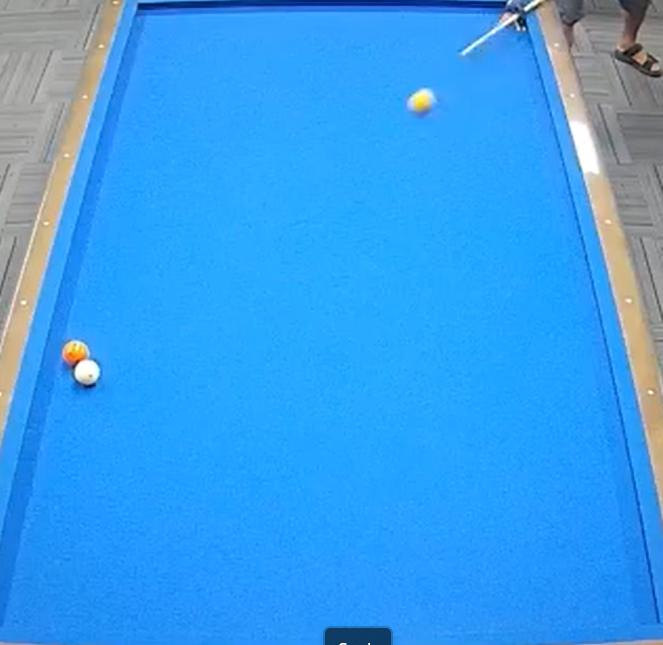orange ball: (59, 337, 93, 371)
white ball: (68, 354, 105, 392)
yellow ball: (405, 81, 440, 122)
